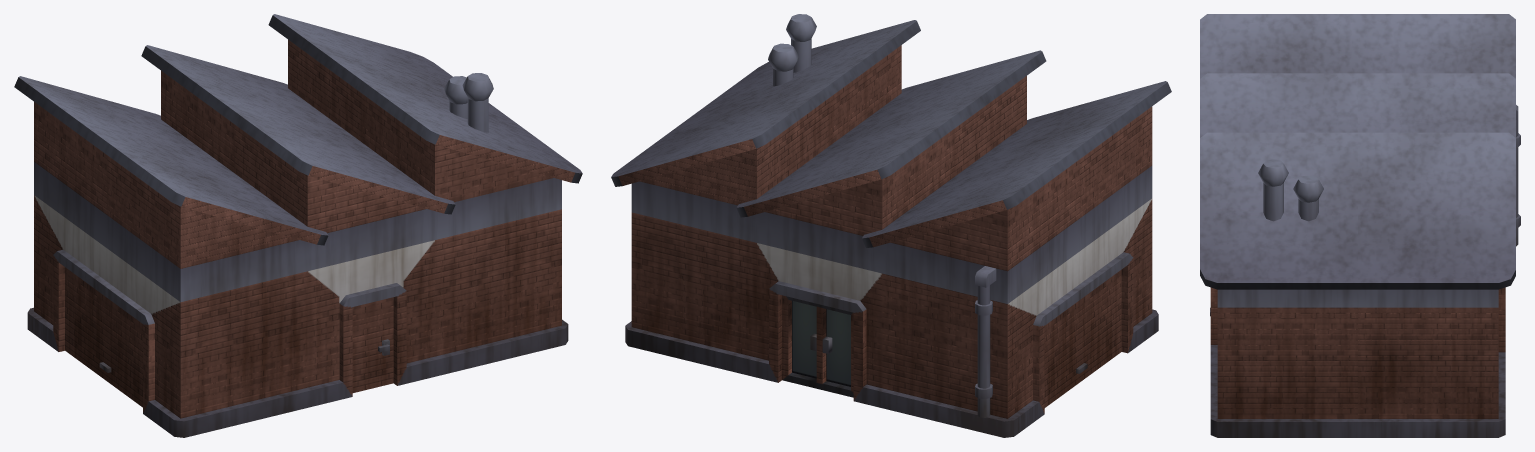
File: building-k-brown.glb
The picture shows the model from 3 angles, left to right: view 1: azimuth 30°, elevation 25°; view 2: azimuth 150°, elevation 25°; view 3: azimuth 270°, elevation 25°; orthographic projection. The views are drawn at different scales.
Parts seen in each view (by area): view 1: building-k; view 2: building-k; view 3: building-k.
Boxes of the visible parts, x1,y1,x2,y2 form: building-k: (14, 14, 582, 437); building-k: (611, 14, 1171, 437); building-k: (1200, 14, 1520, 437).
Size of the model in its own units: 1.3 by 0.7727 by 0.9136.
1 material, 1 textured.
